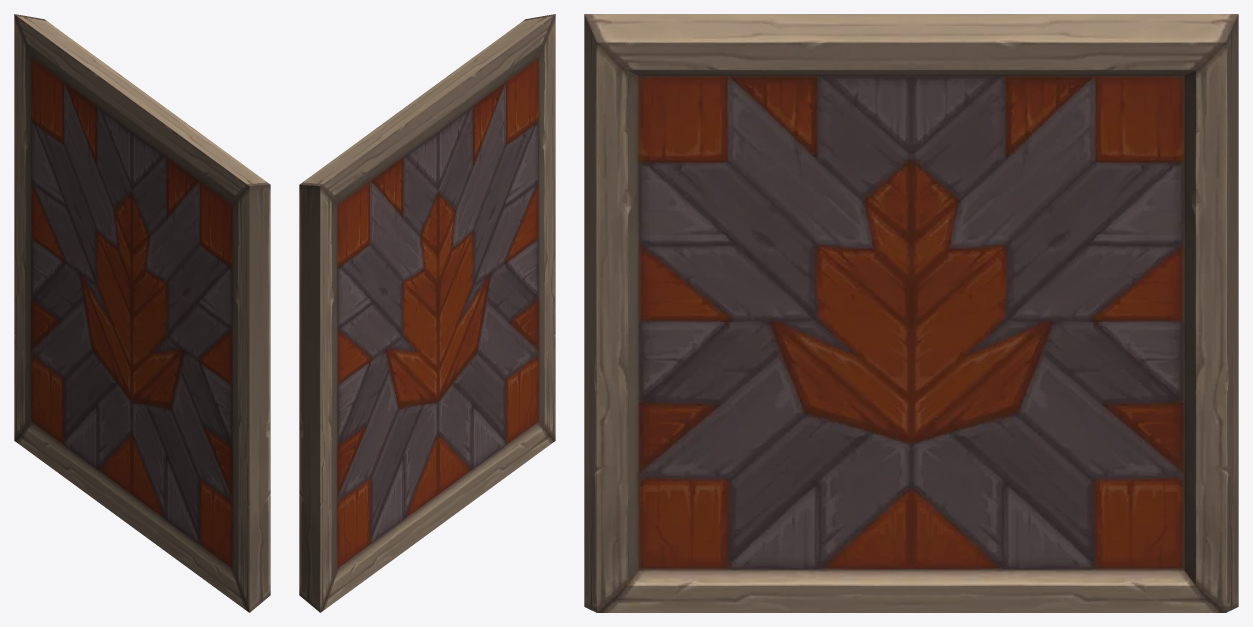
The picture shows the model from 3 angles, left to right: view 1: azimuth 30°, elevation 25°; view 2: azimuth 150°, elevation 25°; view 3: azimuth 270°, elevation 25°; orthographic projection. The views are drawn at different scales.
Size of the model in its own units: 0.11 by 1.74 by 1.74.
1 material, 1 textured.
